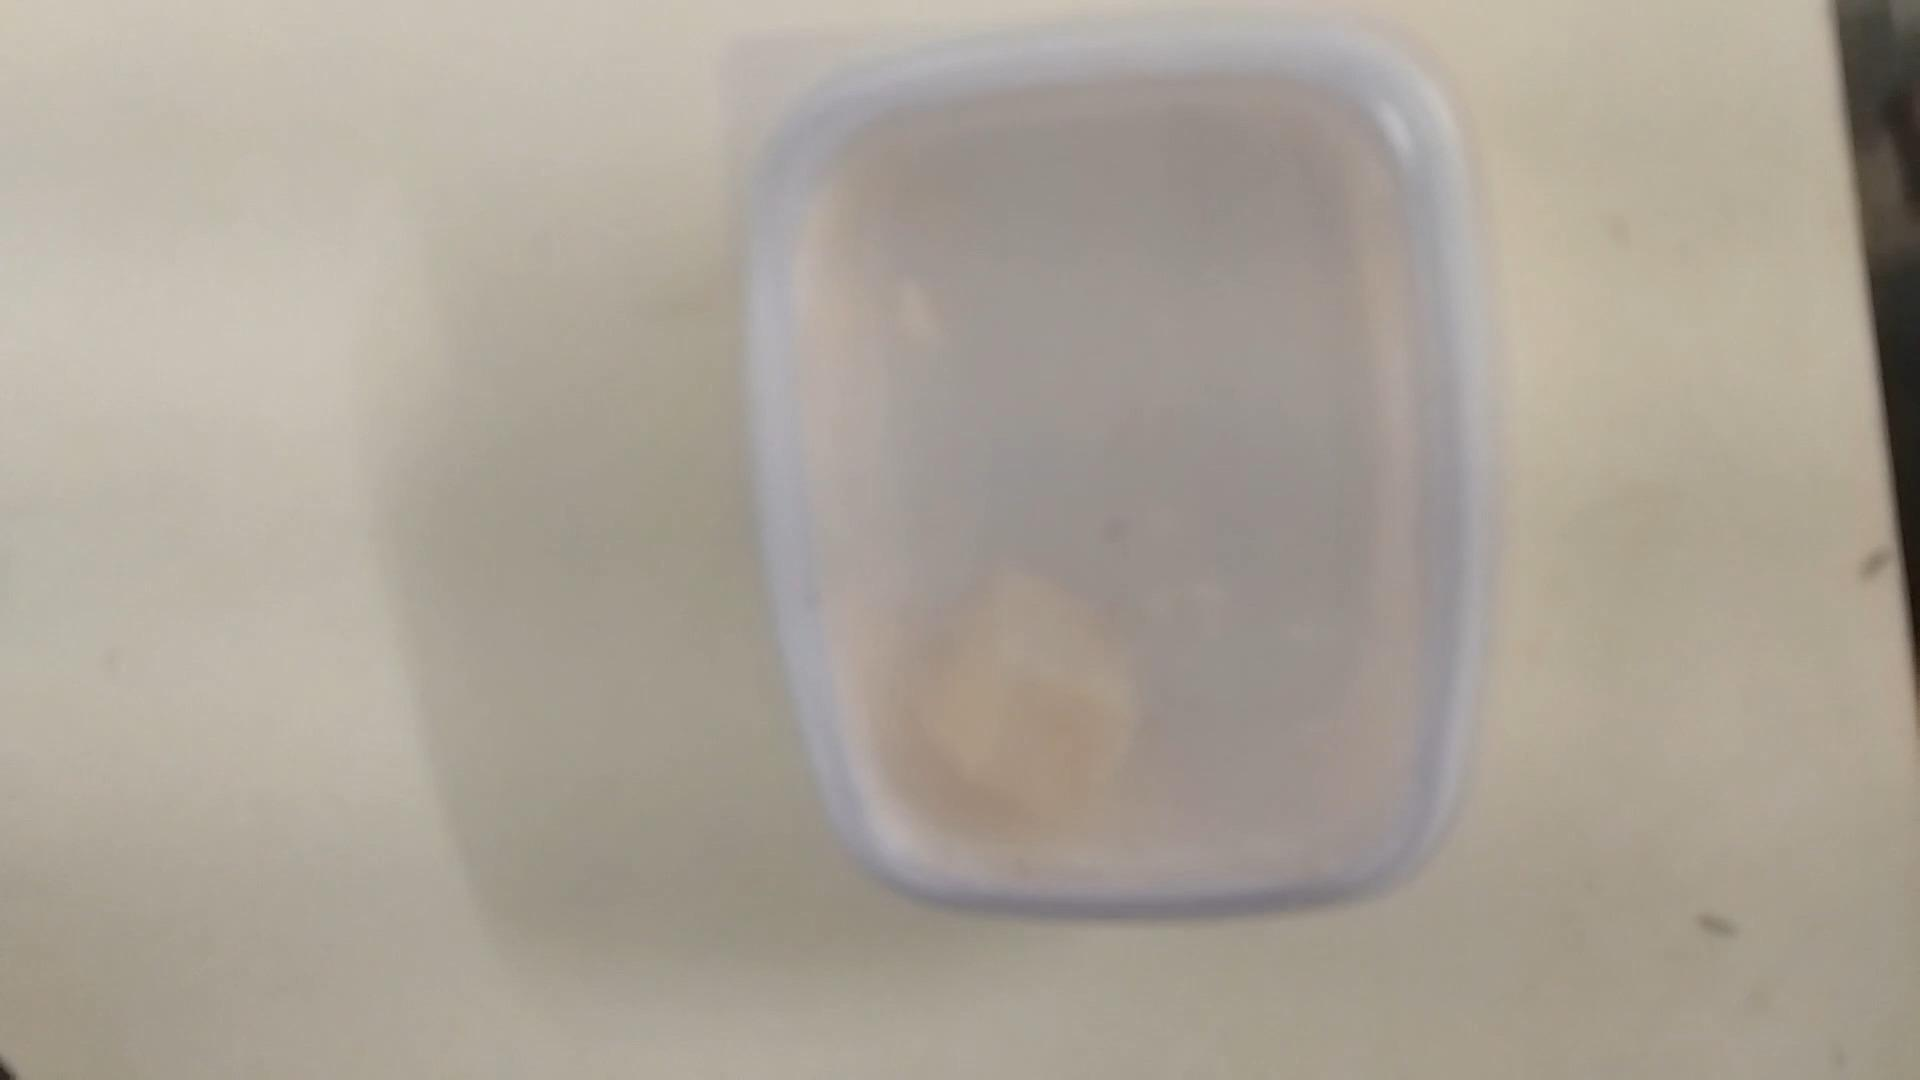butter: (745, 11, 1480, 928)
